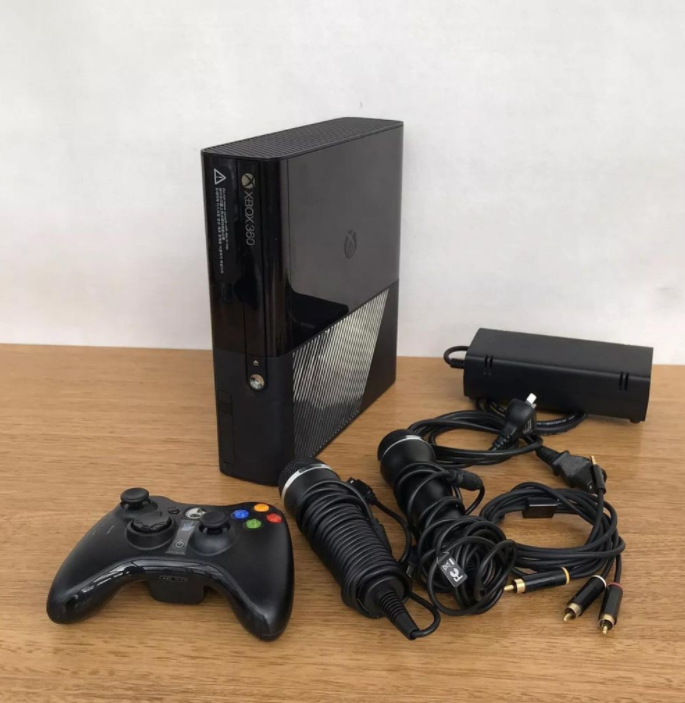gamingconsole: (51, 487, 295, 643)
